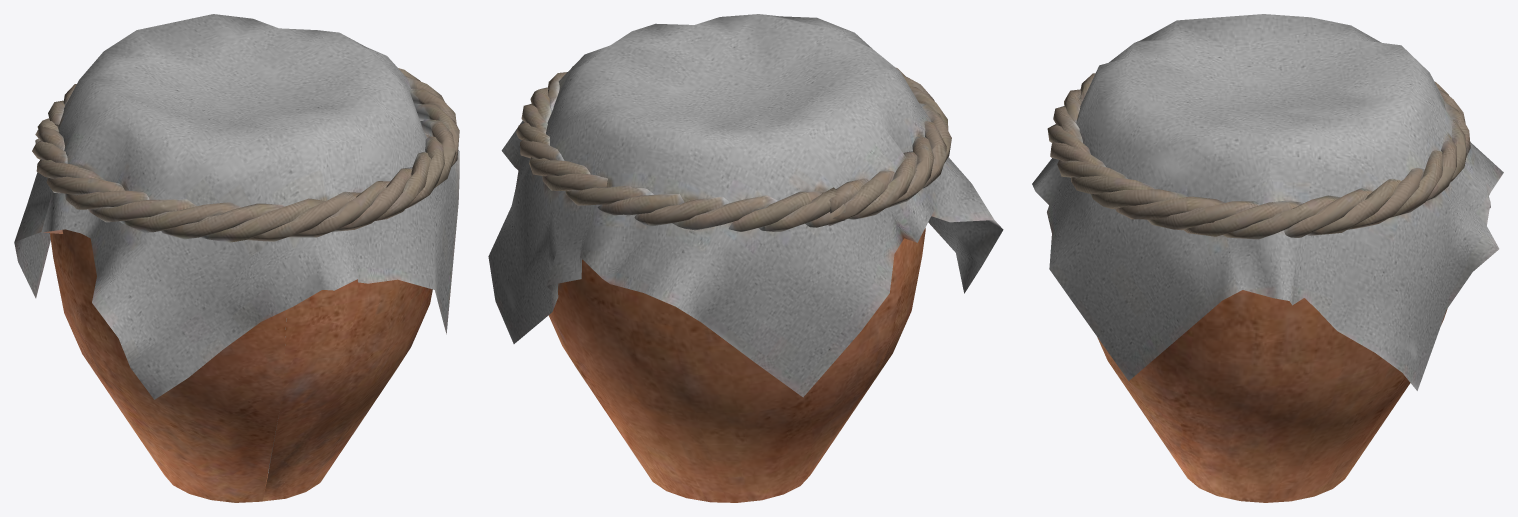
Rendered from winejar.glb.
3 renders of one model, left to right at view 1: azimuth 30°, elevation 25°; view 2: azimuth 150°, elevation 25°; view 3: azimuth 270°, elevation 25°, orthographic.
Visible parts, largest first — view 1: Object_2; view 2: Object_2; view 3: Object_2.
Part boxes in pixels (x1,y1,x2,y2): Object_2: [14, 14, 459, 502]; Object_2: [488, 14, 1003, 502]; Object_2: [1032, 14, 1503, 502].
Size of the model in its own units: 1.34 by 1.2 by 1.3.
1 material, 1 textured.
